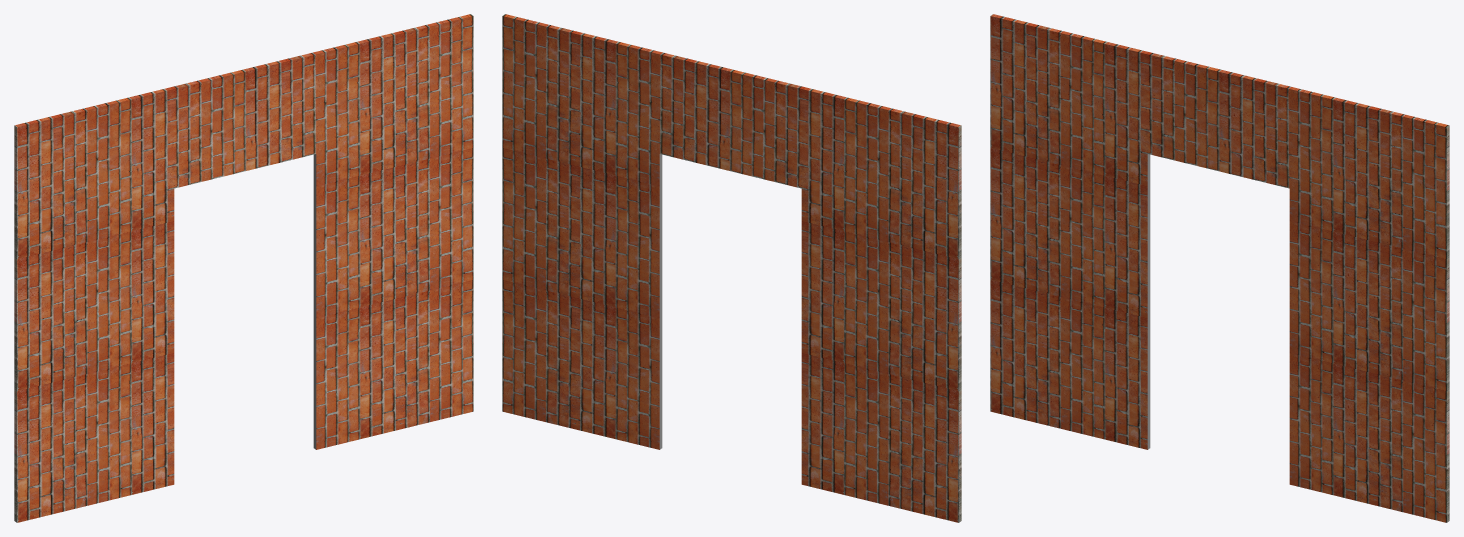
File: Doorway.fbx
3 views of the same model, side by side, from view 1: azimuth 30°, elevation 25°; view 2: azimuth 150°, elevation 25°; view 3: azimuth 330°, elevation 25° (orthographic).
Visible parts, largest first — view 1: pasted__Wall5; view 2: pasted__Wall5; view 3: pasted__Wall5.
Part boxes in pixels (left/top/right/bottom): pasted__Wall5: left=14, top=14, right=473, bottom=522; pasted__Wall5: left=502, top=14, right=961, bottom=522; pasted__Wall5: left=990, top=14, right=1449, bottom=522.
Bounding box in the file's own units: 0.0483 × 0.04 × 0.0005.
2 materials, 1 textured.
